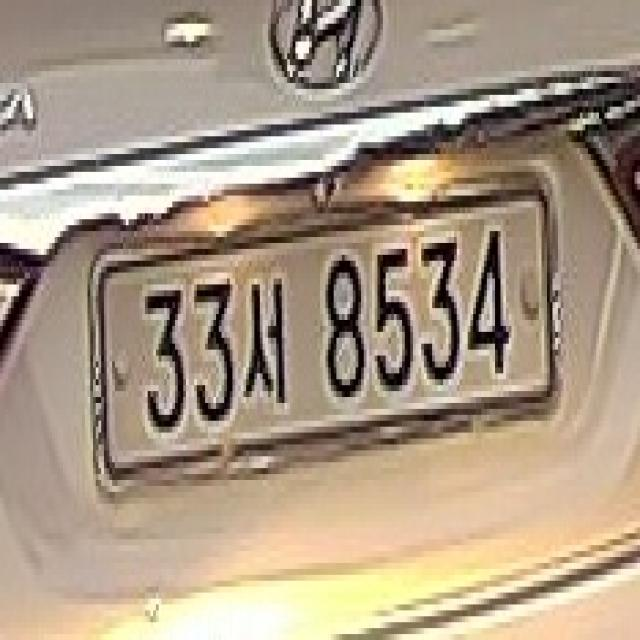3: (142, 278, 192, 438), (416, 231, 465, 385), (192, 266, 236, 426)
4: (462, 225, 512, 379)
8: (320, 249, 369, 403)
license_plate: (96, 190, 555, 468)
seo: (235, 272, 290, 414)
